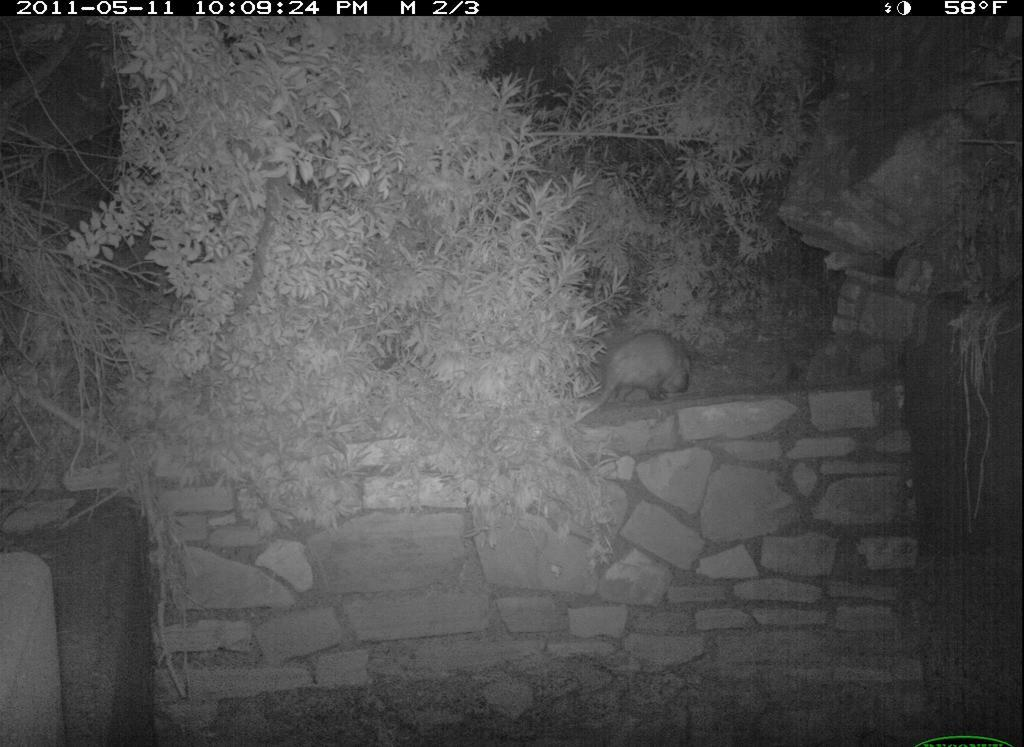opossum: (570, 318, 725, 440)
